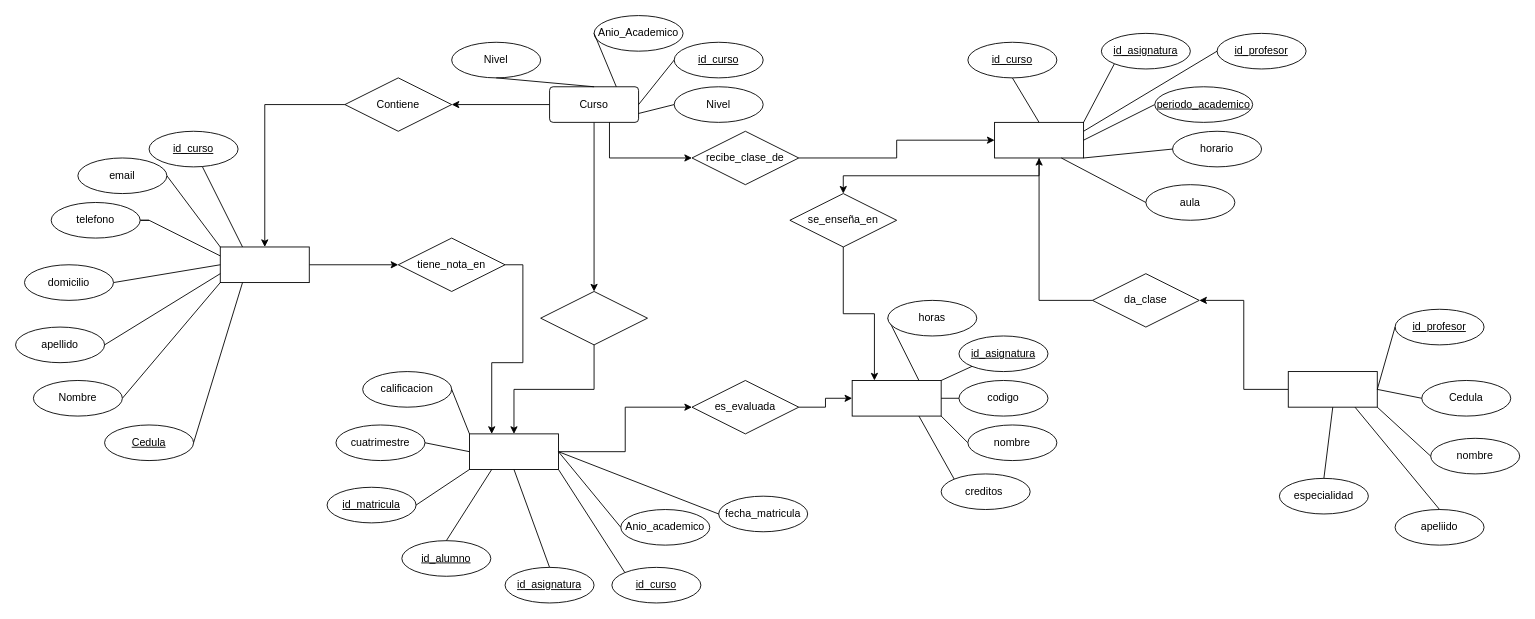
This 1535x619 diagram has some shape labels left out. Each missing label, with the box of its shape:
Alumno: (219, 246, 309, 283)
asignatura: (851, 380, 941, 416)
leccion: (994, 121, 1084, 158)
matricula: (469, 433, 558, 469)
profesor: (1287, 371, 1377, 407)
registrado_bajo: (540, 291, 647, 345)
